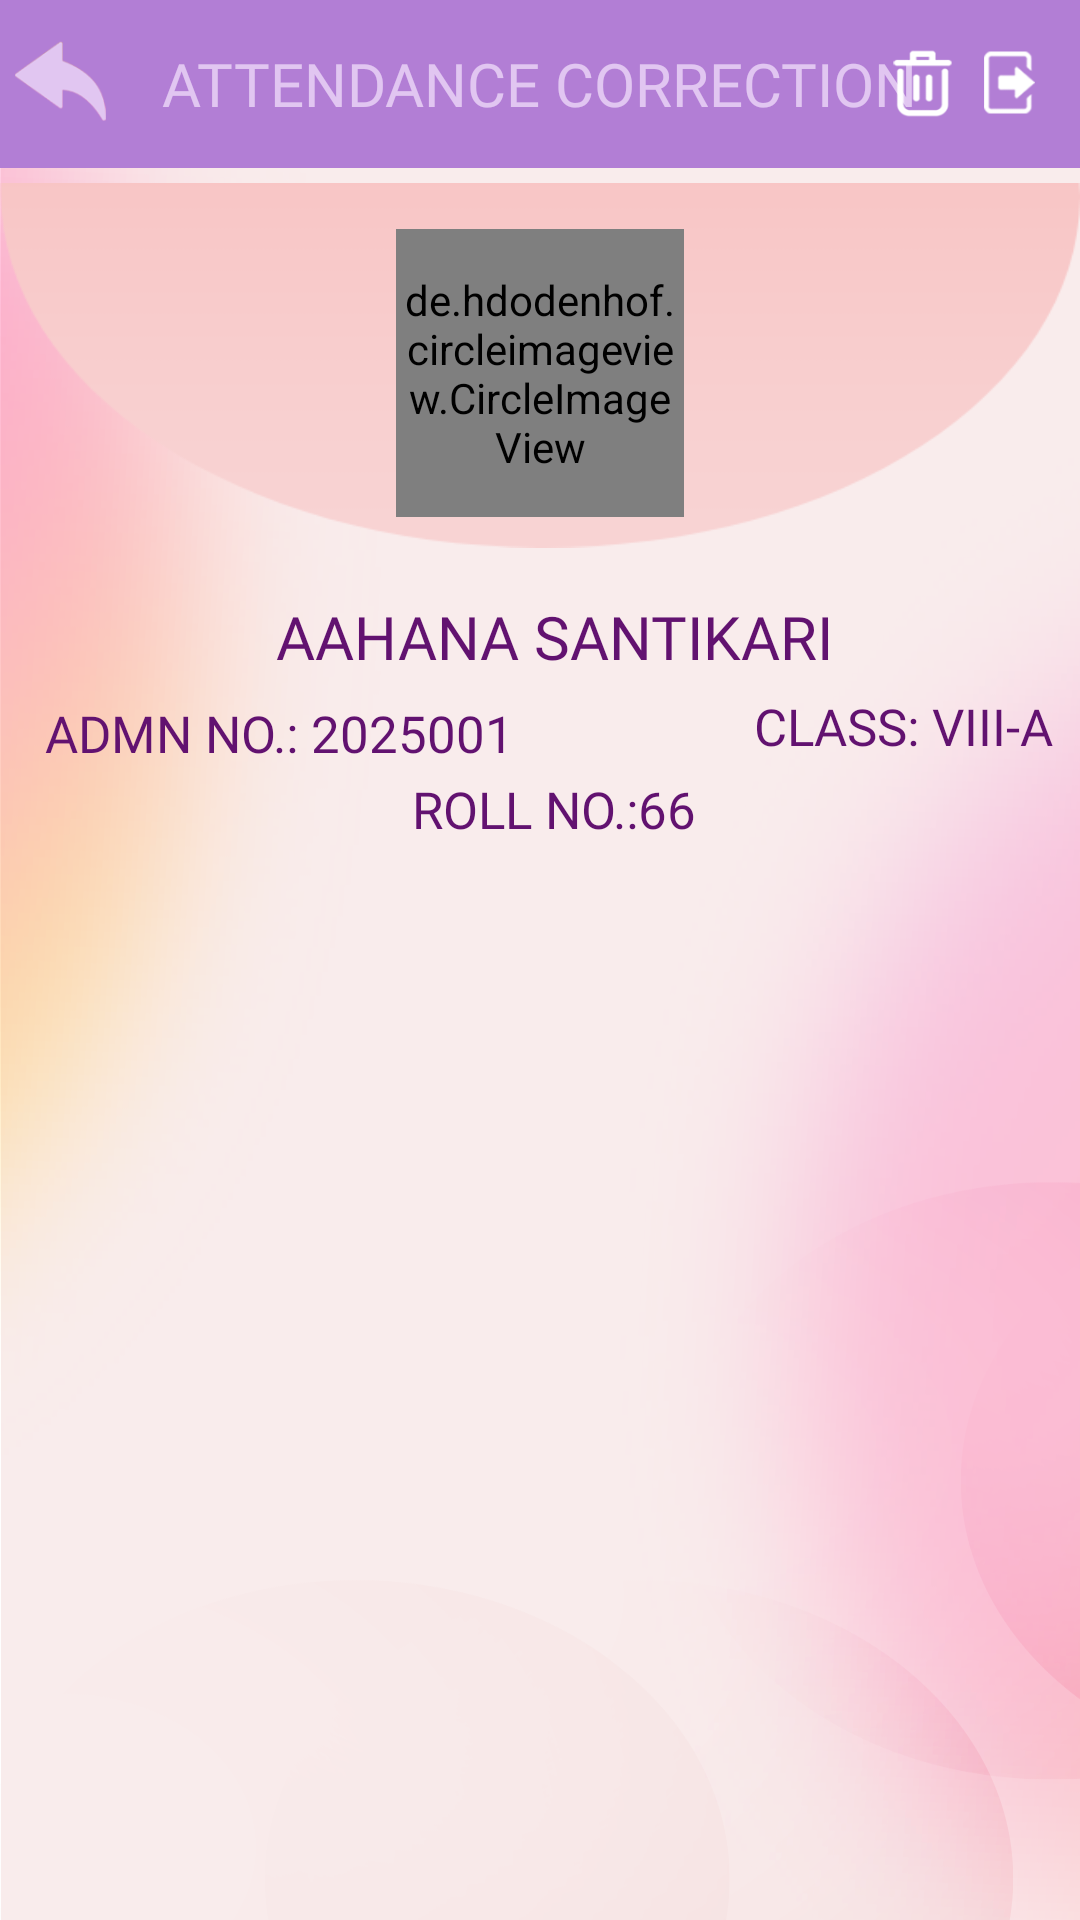

Where icons sit on this 1080×1920 app screen, as (x1, y1, x2, y2):
undo: (15, 42, 106, 121)
